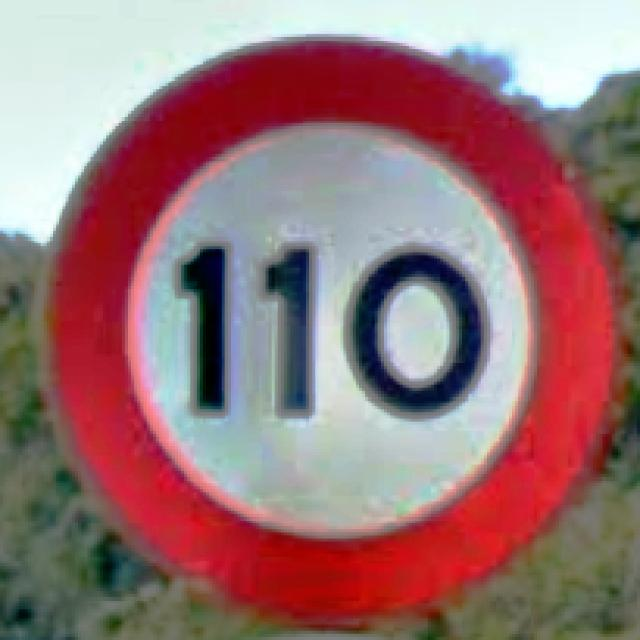max110: (35, 30, 624, 628)
